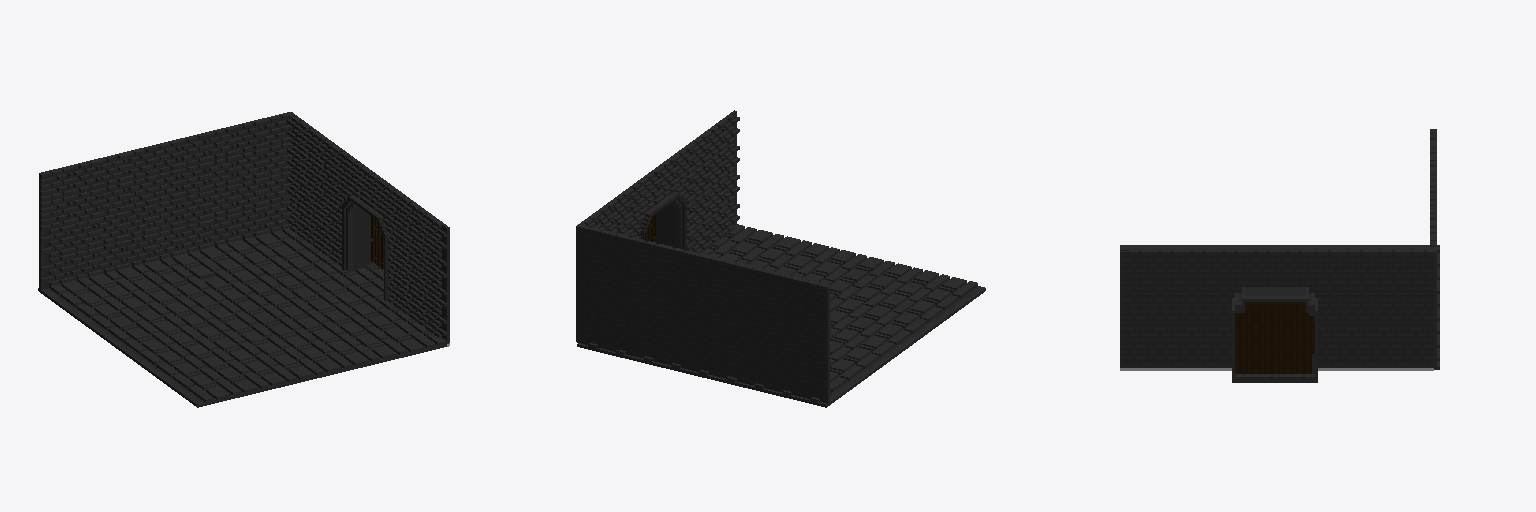
3 views of the same model, side by side, from view 1: azimuth 30°, elevation 25°; view 2: azimuth 150°, elevation 25°; view 3: azimuth 270°, elevation 25° (orthographic).
Size of the model in its own units: 100 by 41 by 100.
1 materials, 1 textured.